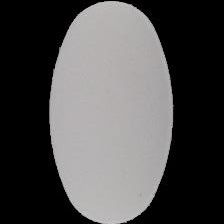0615-7676: (0, 0, 224, 224)
